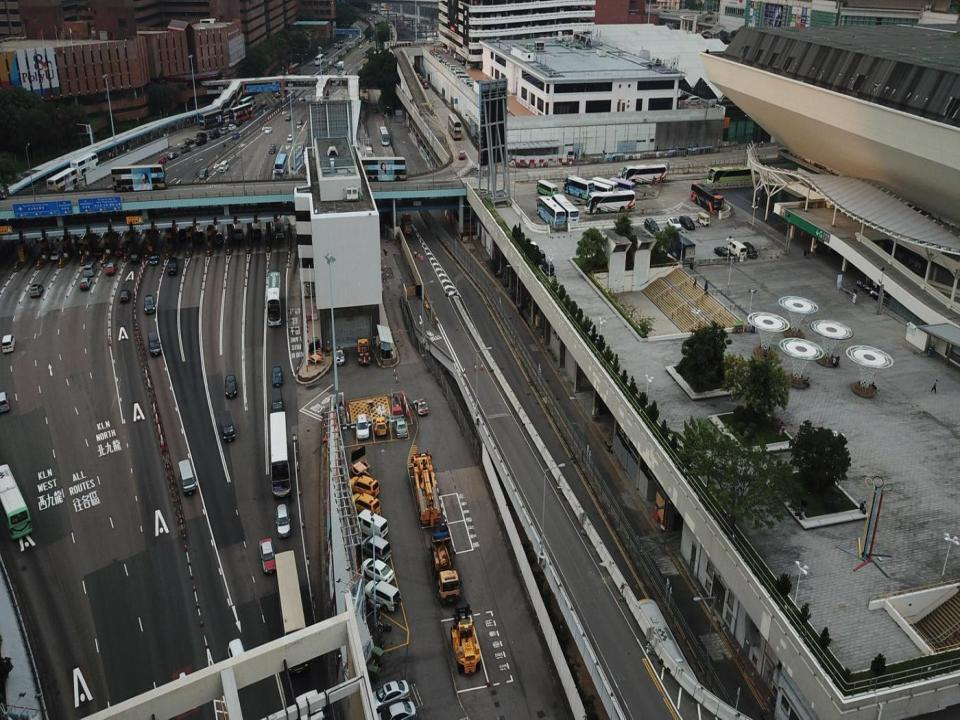bus: (0, 463, 32, 540), (111, 164, 167, 190), (584, 189, 636, 214), (357, 156, 407, 180), (690, 182, 725, 215), (294, 688, 326, 719), (550, 194, 579, 228), (70, 152, 99, 185), (536, 195, 565, 228), (46, 166, 79, 194), (706, 166, 752, 186), (620, 164, 666, 184), (562, 175, 595, 200), (267, 272, 281, 326), (590, 176, 618, 200), (606, 177, 636, 199), (585, 179, 612, 202), (199, 108, 225, 130), (228, 102, 253, 122), (274, 152, 288, 182), (448, 112, 462, 141), (536, 179, 558, 197), (288, 62, 300, 79), (379, 126, 389, 145), (314, 53, 324, 65), (362, 49, 368, 57)
car: (371, 679, 409, 713), (362, 557, 394, 585), (376, 702, 416, 719), (258, 537, 276, 574), (224, 374, 237, 398), (412, 398, 429, 415), (644, 217, 660, 234), (678, 215, 694, 230), (333, 346, 344, 366), (666, 217, 682, 230), (714, 245, 730, 258), (272, 366, 282, 386), (105, 262, 117, 275), (119, 289, 131, 302), (80, 276, 91, 290), (149, 252, 159, 265), (115, 245, 126, 256), (461, 78, 476, 86), (50, 250, 62, 260), (94, 247, 105, 256), (462, 58, 473, 66), (158, 156, 167, 165), (466, 60, 476, 68), (677, 93, 687, 101), (184, 138, 195, 144), (254, 227, 261, 236), (168, 152, 178, 158), (228, 124, 236, 131), (459, 150, 465, 159), (264, 127, 272, 133), (328, 58, 334, 65), (286, 114, 292, 121), (274, 91, 280, 97), (333, 62, 338, 68), (663, 9, 669, 14), (297, 119, 302, 125), (261, 100, 266, 106), (373, 106, 377, 113), (338, 45, 343, 49), (324, 50, 328, 55), (340, 40, 344, 44), (368, 16, 372, 20), (338, 54, 342, 57), (375, 20, 377, 25), (359, 44, 362, 47), (358, 34, 361, 37), (348, 45, 352, 47), (359, 13, 362, 15), (374, 14, 376, 16)
truck: (275, 550, 311, 673), (411, 450, 441, 528), (430, 531, 461, 605), (269, 411, 291, 497), (663, 232, 695, 263), (355, 338, 371, 366), (274, 209, 285, 238), (401, 214, 412, 234), (179, 225, 187, 240), (338, 60, 344, 70)
van: (362, 579, 401, 612), (228, 638, 251, 683), (355, 508, 388, 538), (358, 534, 392, 563), (350, 493, 382, 518), (349, 475, 380, 498), (178, 459, 196, 495), (276, 503, 290, 538), (220, 410, 234, 442), (270, 387, 285, 415), (355, 413, 370, 439), (727, 240, 746, 259), (148, 331, 162, 356), (1, 334, 15, 354), (394, 418, 408, 437), (143, 294, 156, 314), (742, 242, 758, 258), (374, 416, 386, 436), (167, 257, 178, 276), (0, 391, 10, 411), (30, 283, 43, 297), (84, 262, 96, 277), (130, 250, 142, 264), (456, 74, 472, 83), (236, 222, 244, 239), (685, 96, 700, 105), (197, 228, 205, 244), (214, 232, 224, 244), (219, 160, 228, 173), (199, 167, 208, 179), (181, 144, 191, 154), (196, 136, 207, 145), (455, 70, 467, 78), (196, 132, 207, 140), (450, 67, 462, 74), (209, 131, 221, 138), (268, 144, 276, 154), (220, 127, 230, 134), (232, 131, 240, 139), (450, 64, 459, 71), (287, 133, 293, 142), (235, 119, 242, 126), (436, 54, 442, 61), (433, 52, 438, 59), (333, 43, 337, 47), (349, 32, 352, 37)
